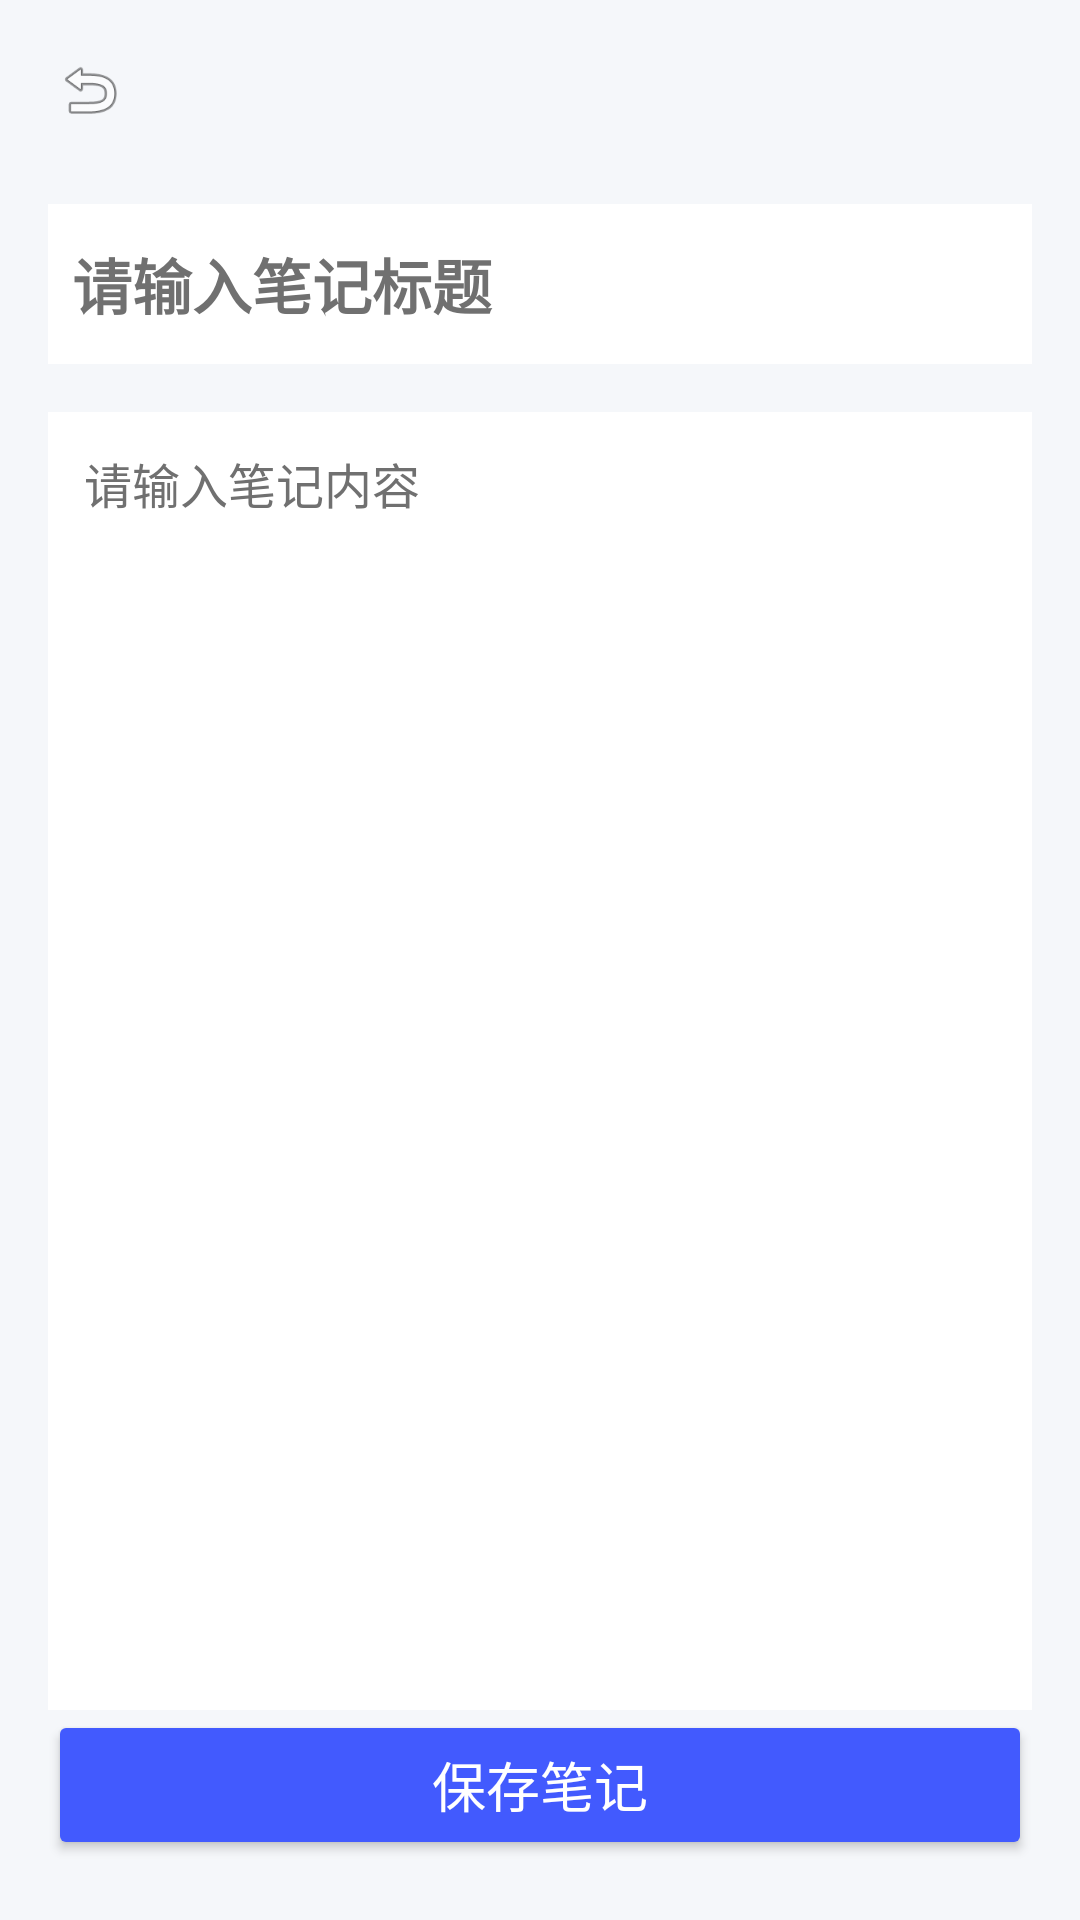

Named icons in this screenshot (1080*1920) and their centers, [x,y]:
返回: [91,90]
